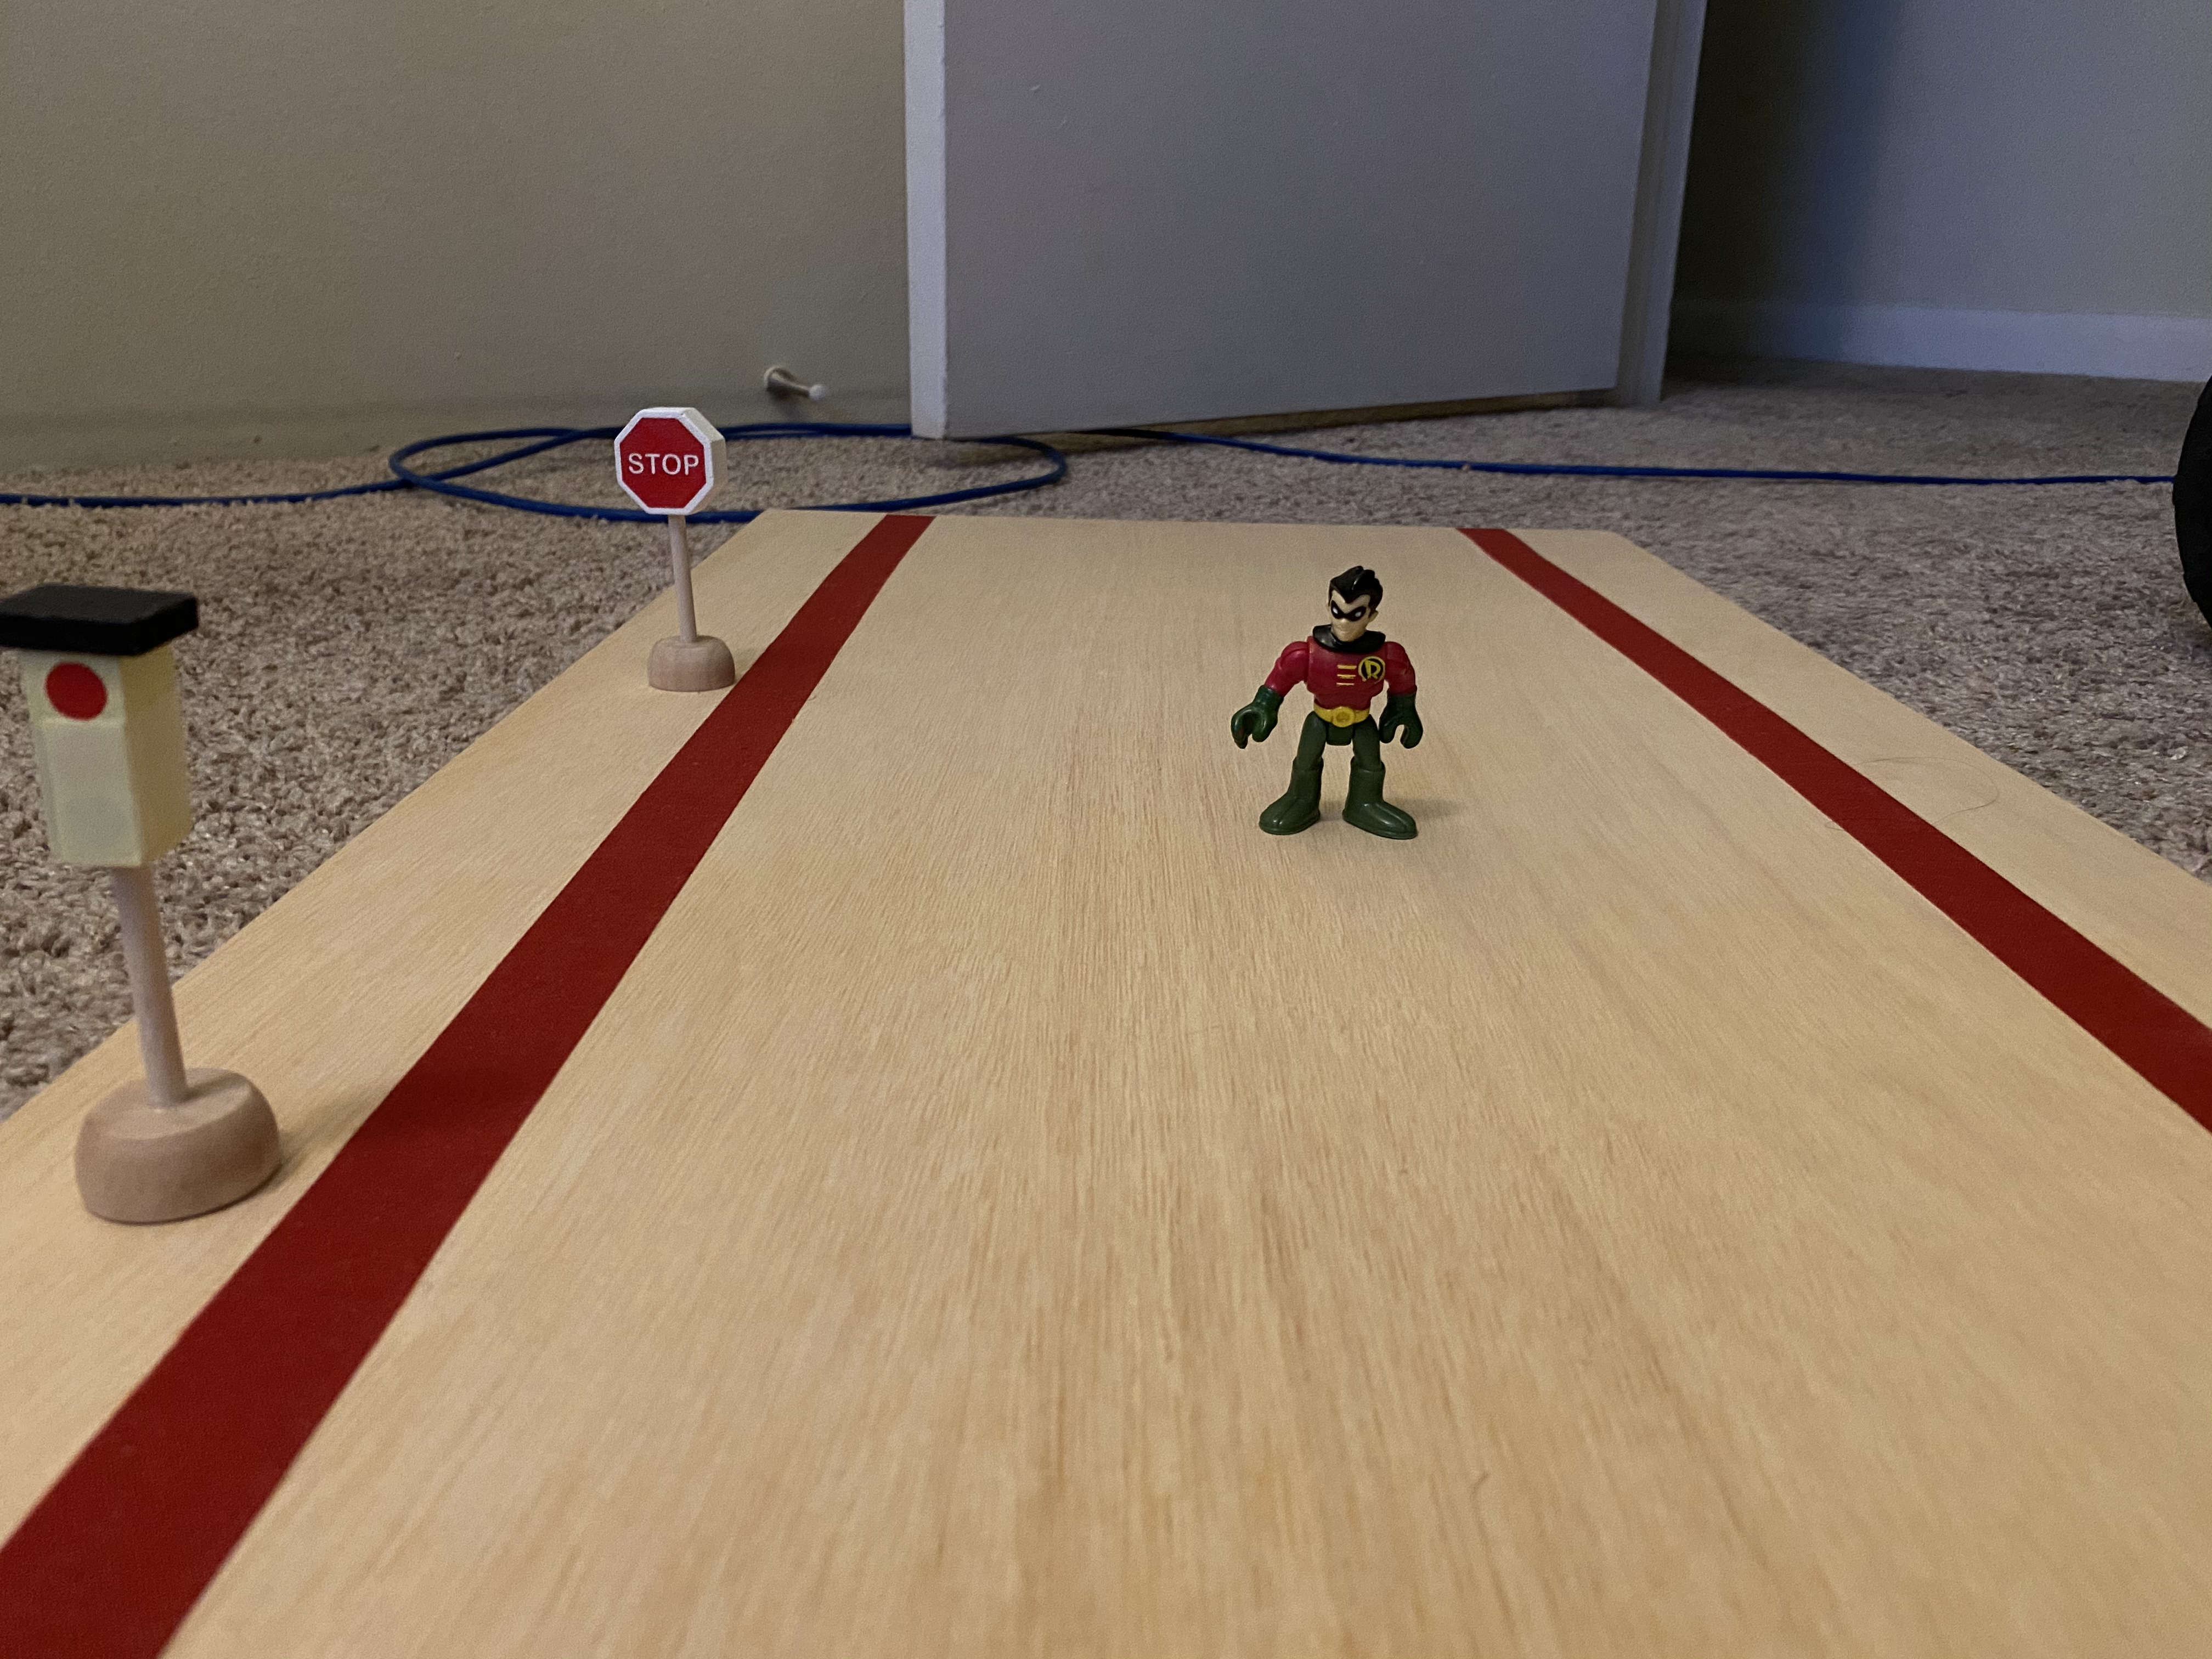Person: (1211, 560, 1449, 838)
Red Traffic Light: (8, 555, 228, 889)
Stop Sign: (594, 399, 745, 532)
